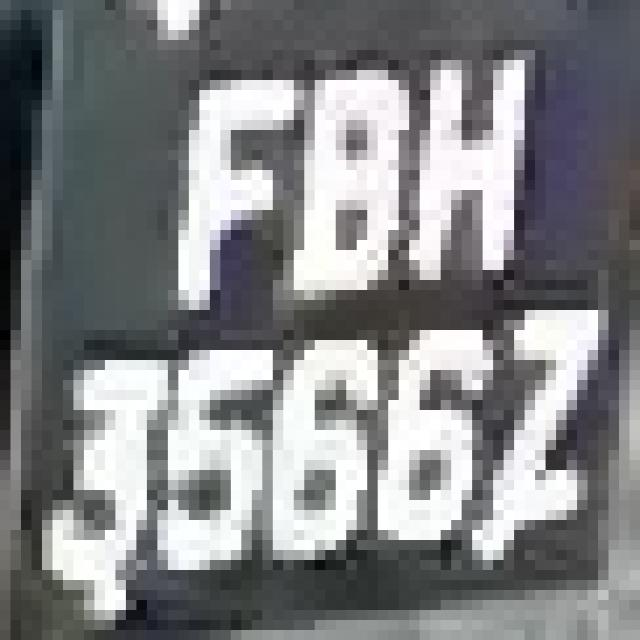3: (42, 330, 157, 610)
5: (157, 310, 273, 570)
6: (252, 320, 388, 570), (378, 320, 493, 580)
B: (294, 50, 409, 310)
F: (157, 50, 294, 330)
H: (420, 30, 556, 290)
Z: (482, 300, 608, 560)
